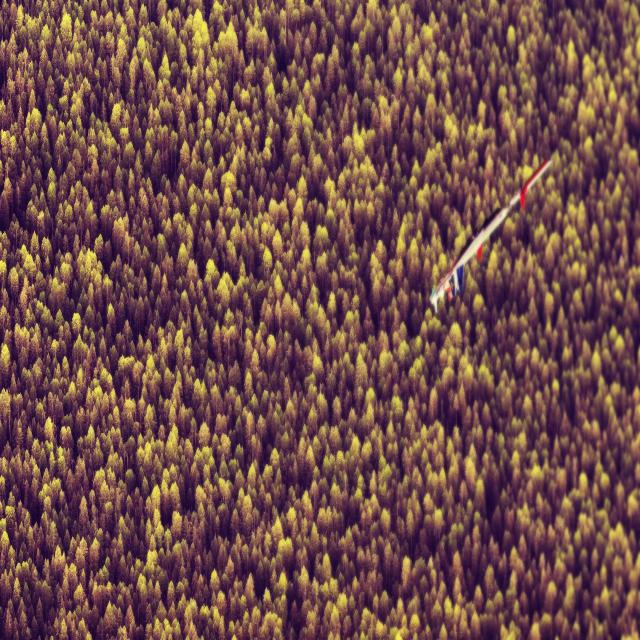airplane: (429, 156, 552, 314)
